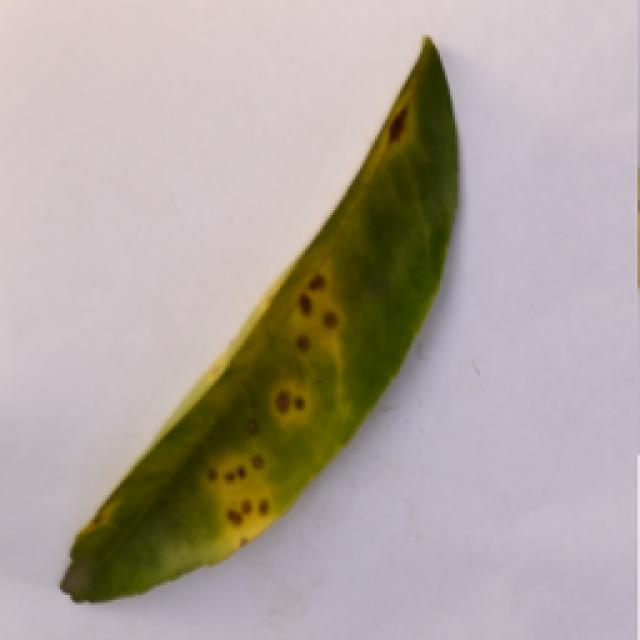canker: (138, 110, 464, 570)
